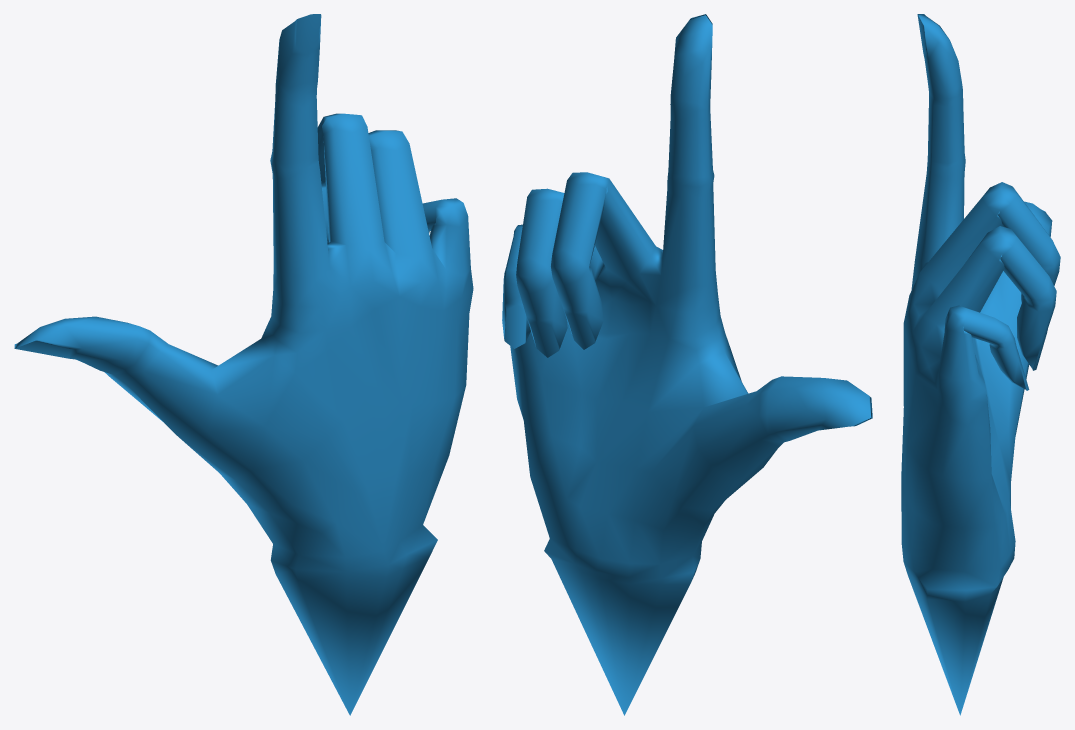
File: Hand_yubisasi_A.obj
3 renders of one model, left to right at view 1: azimuth 30°, elevation 25°; view 2: azimuth 150°, elevation 25°; view 3: azimuth 270°, elevation 25°, orthographic. The views are drawn at different scales.
Visible parts, largest first — view 1: Hand_yubisasi_A_MDL; view 2: Hand_yubisasi_A_MDL; view 3: Hand_yubisasi_A_MDL.
Boxes of the visible parts, x1,y1,x2,y2 form: Hand_yubisasi_A_MDL: (14,14,473,715); Hand_yubisasi_A_MDL: (502,14,872,715); Hand_yubisasi_A_MDL: (901,14,1060,715).
Size of the model in its own units: 12.28 by 20.66 by 4.43.
1 material, 1 textured.
